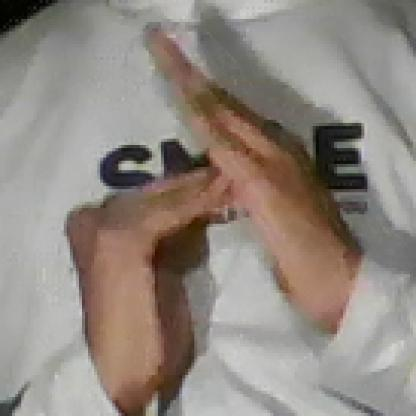Z: (51, 18, 317, 377)
